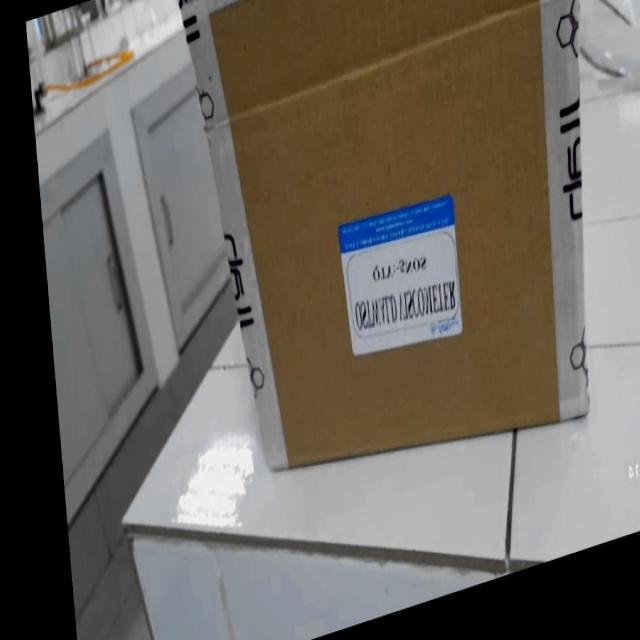Ostwald Viscometer: (233, 78, 591, 508)
